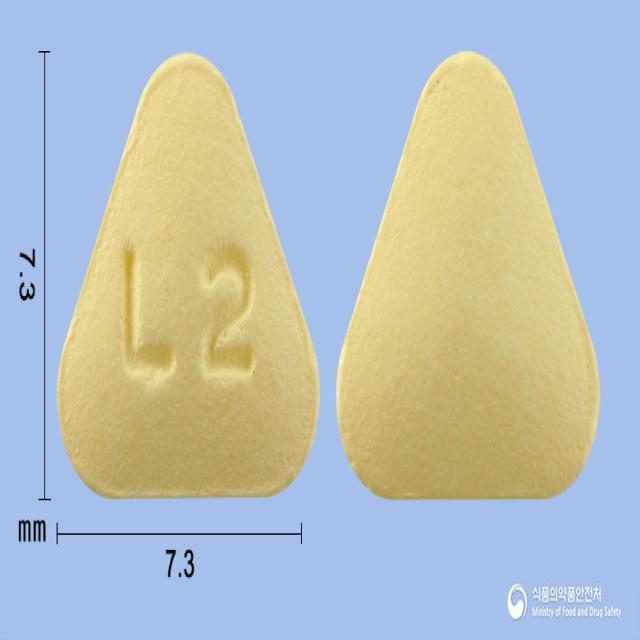Flomox: (54, 51, 320, 502)
